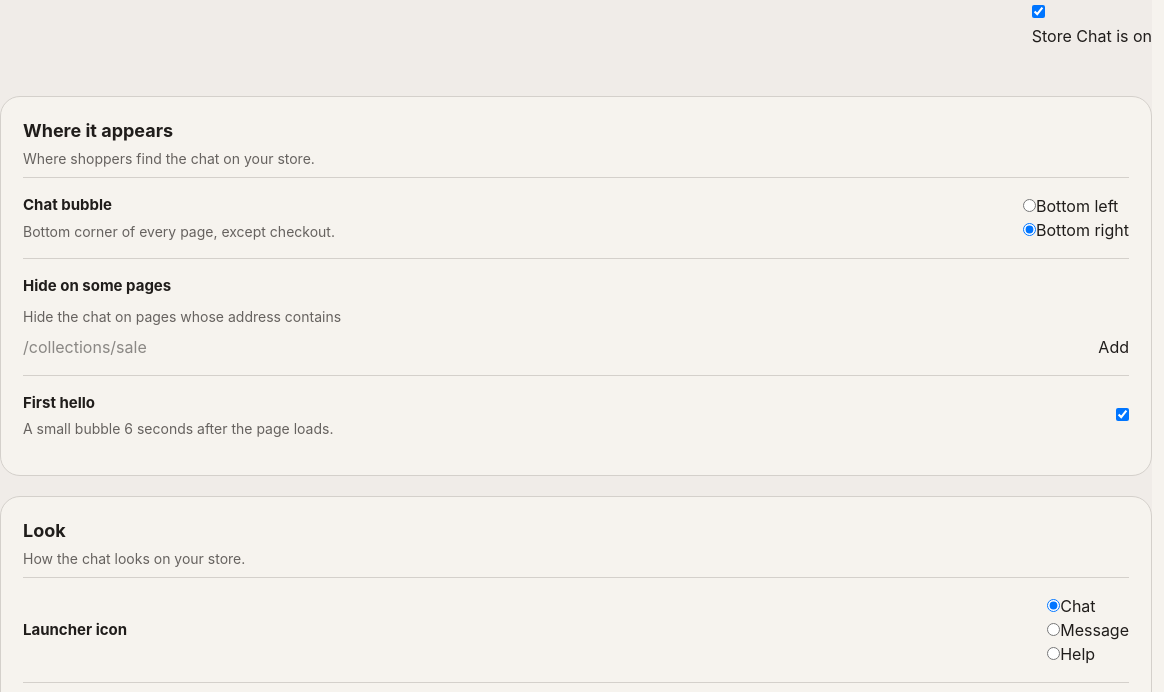
Test: V16ChatStudio › turns Store Chat off, and back when that fails
Click the switch labelled "Store Chat is on" at {"x": 1038, "y": 12}, box [1032,5,1045,18]
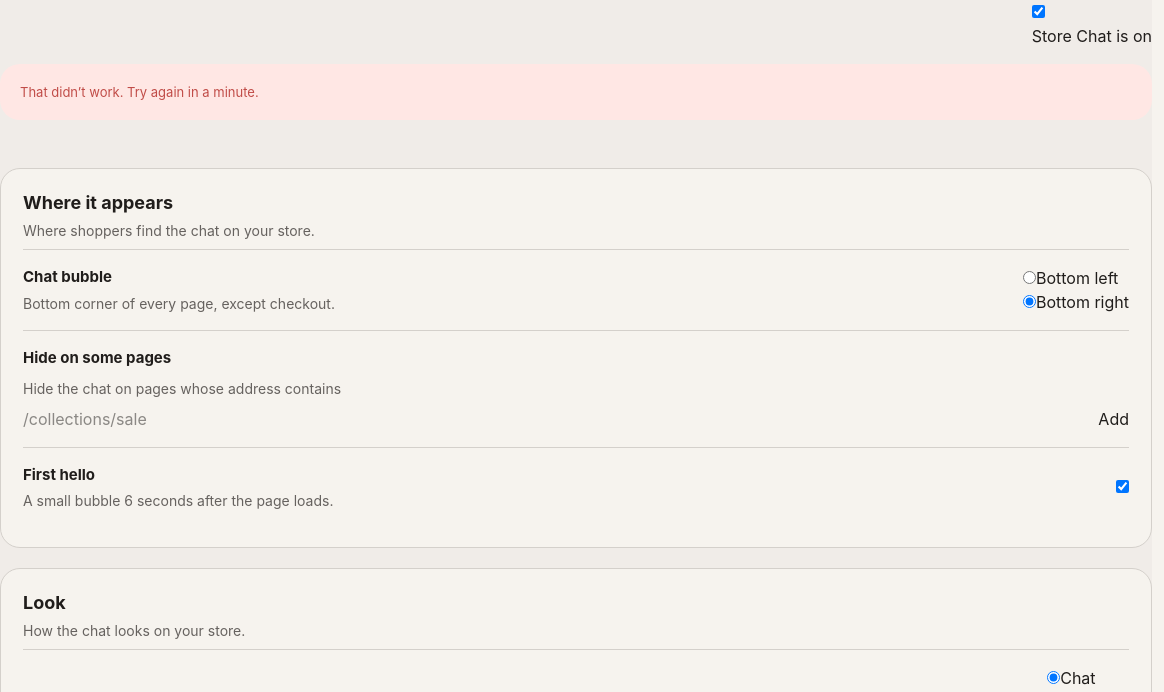
Now the message reads "That didn’t work. Try again in a minute.", box [20,84,259,100]
